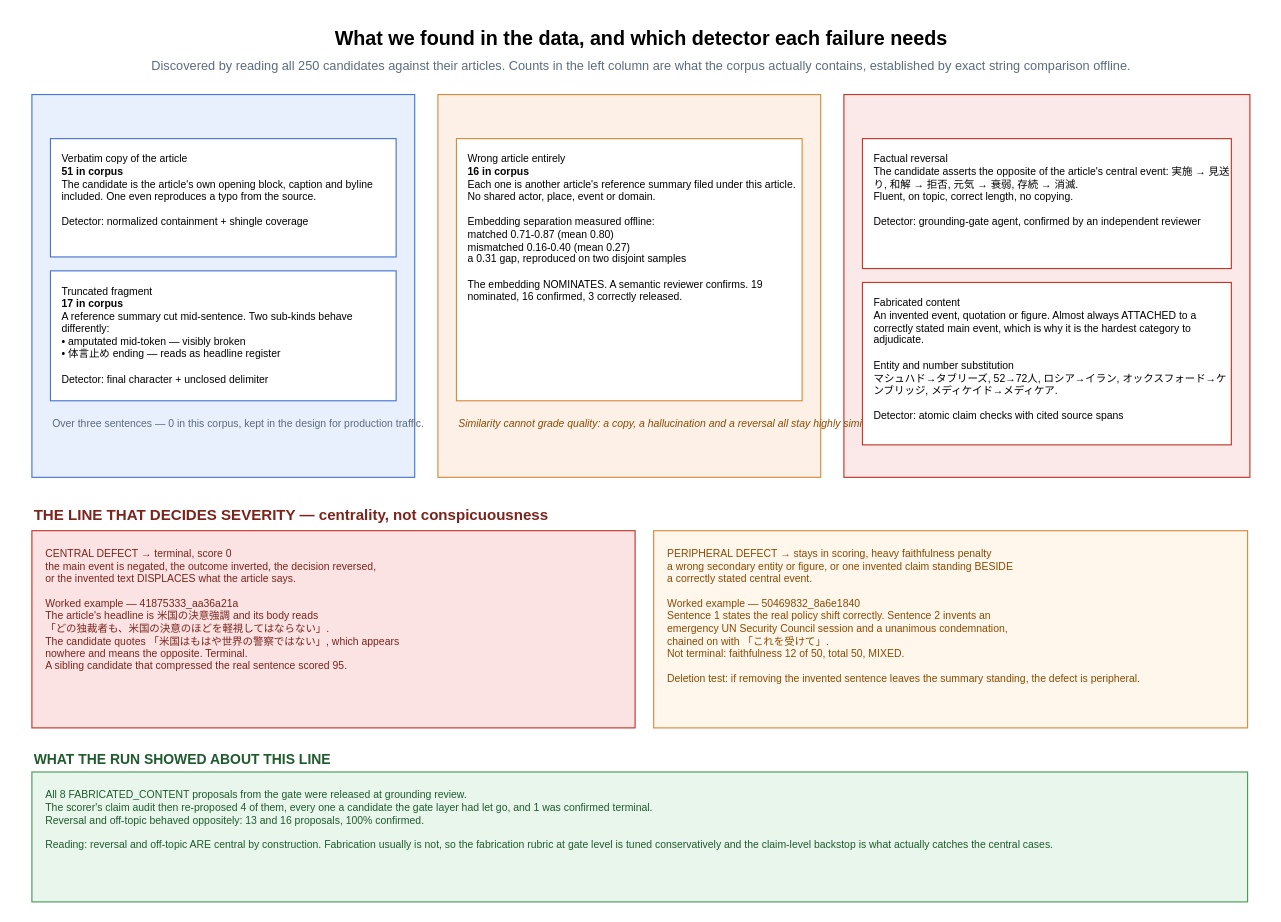
Some shapes in this 1281 by 922 pixel diagram are drawn without their labels. The shapes that lost their labels are listed below. From the top down, each one's box as (x1, y1, x2, y2) in pixels, then its label:
(31, 93, 415, 477): CHEAP AND CERTAIN a string test proves it
(437, 93, 821, 477): CHEAP AND DIRECTIONAL an embedding hints, never decides
(843, 93, 1250, 477): EXPENSIVE AND NECESSARY only reading the article decides
